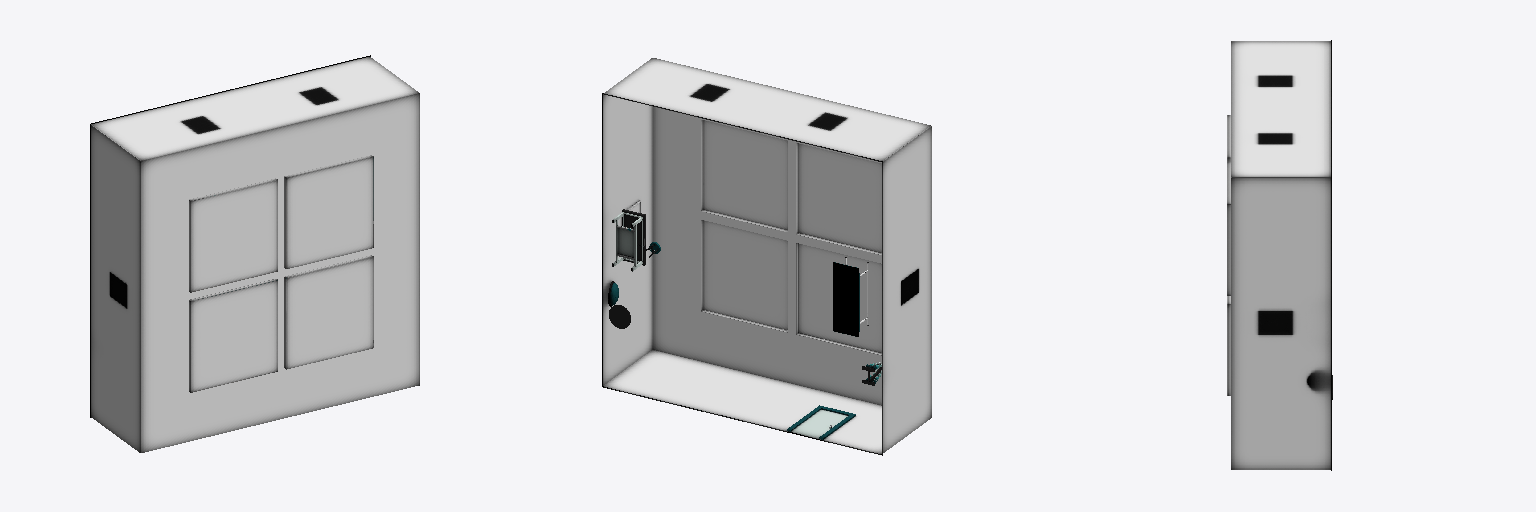
The picture shows the model from 3 angles: view 1: azimuth 30°, elevation 25°; view 2: azimuth 150°, elevation 25°; view 3: azimuth 270°, elevation 25°; orthographic projection.
Parts seen in each view (by area): view 1: RoomWhite_v04_noFloor; view 2: RoomWhite_v04_noFloor; view 3: RoomWhite_v04_noFloor.
Boxes of the visible parts, x1=… form: RoomWhite_v04_noFloor: x1=90, y1=55, x2=419, y2=452; RoomWhite_v04_noFloor: x1=602, y1=58, x2=931, y2=455; RoomWhite_v04_noFloor: x1=1227, y1=40, x2=1332, y2=470.
Size of the model in its own units: 1400 by 1405 by 454.
Materials: 1 (1 with a texture image).